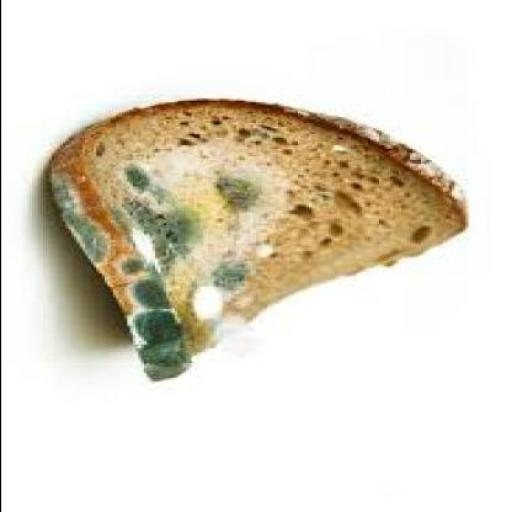biodegradable: (50, 102, 473, 385)
